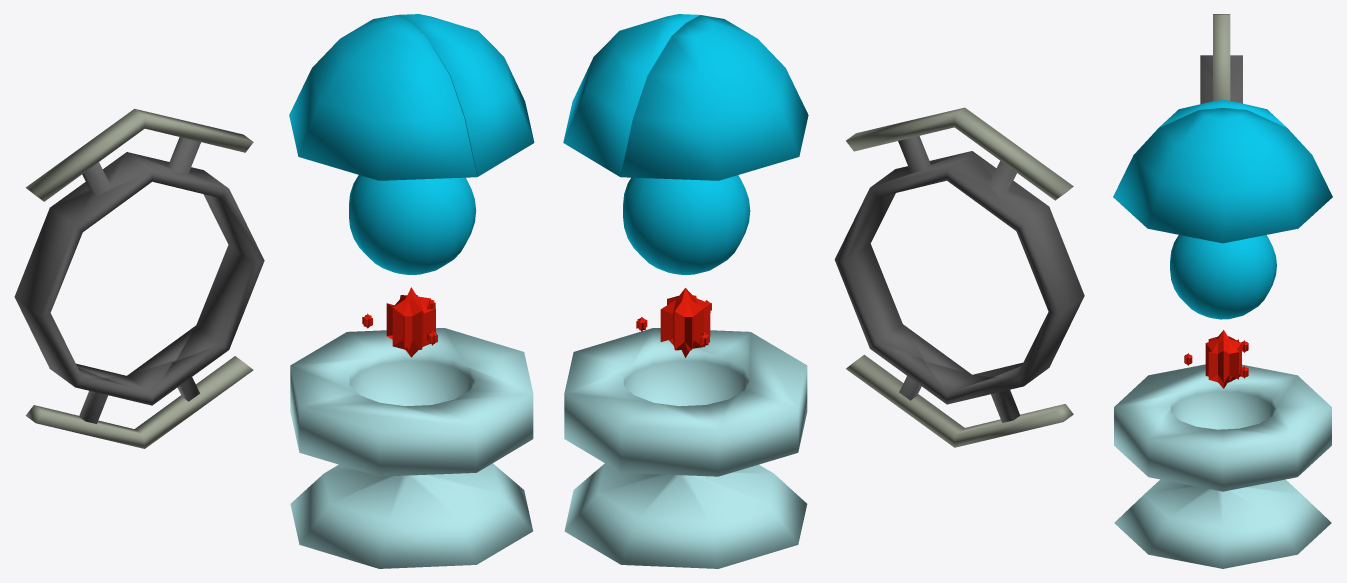
File: Nucleo.fbx
The picture shows the model from 3 angles, left to right: view 1: azimuth 30°, elevation 25°; view 2: azimuth 150°, elevation 25°; view 3: azimuth 270°, elevation 25°; orthographic projection. The views are drawn at different scales.
Parts seen in each view (by area): view 1: Base, Handler, Cristal, Core, Principal Power Gem; view 2: Base, Handler, Cristal, Core, Principal Power Gem; view 3: Base, Cristal, Core, Handler, Principal Power Gem.
Part boxes in pixels (x1,y1,x2,y2): Base: [290, 328, 533, 568]; Handler: [14, 108, 264, 448]; Cristal: [289, 14, 534, 180]; Core: [349, 175, 476, 274]; Principal Power Gem: [386, 287, 435, 357]; Base: [564, 328, 807, 568]; Handler: [834, 107, 1084, 447]; Cristal: [563, 14, 808, 180]; Core: [623, 175, 750, 274]; Principal Power Gem: [660, 288, 710, 357]; Base: [1114, 364, 1331, 568]; Cristal: [1113, 99, 1332, 243]; Core: [1170, 235, 1276, 319]; Handler: [1200, 14, 1242, 103]; Principal Power Gem: [1205, 330, 1241, 388].
Bounding box in the file's own units: 419 × 397 × 191.
